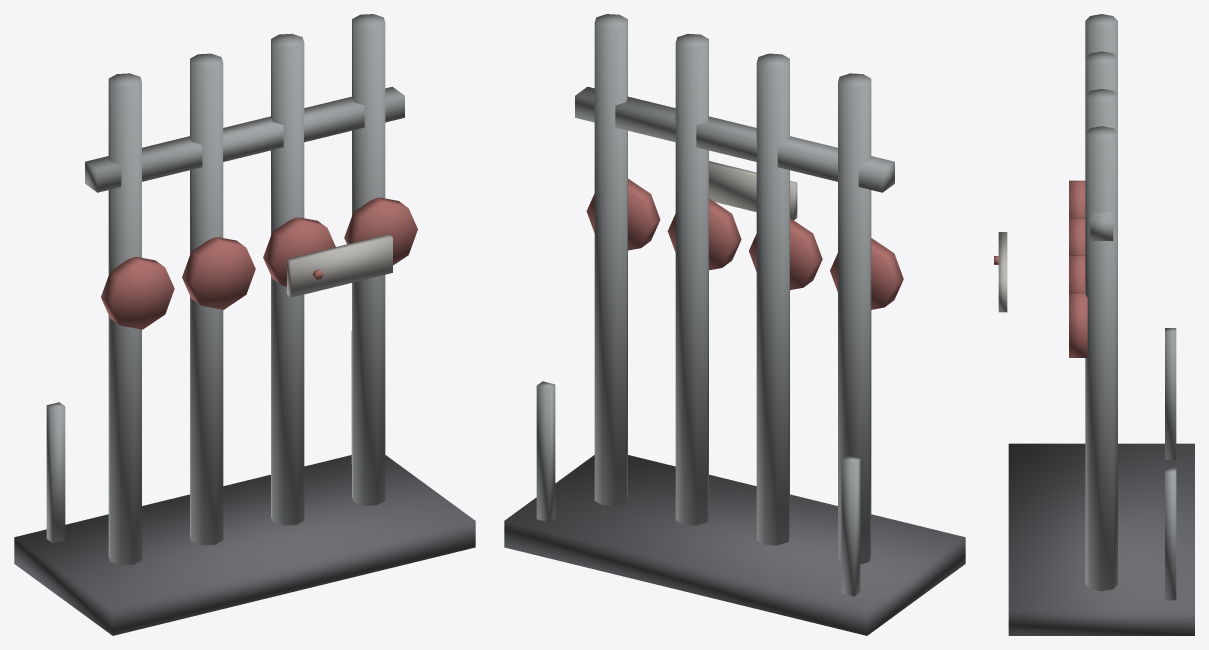
The model's file is radiator_manifold__reinforced.glb.
The picture shows the model from 3 angles, left to right: view 1: azimuth 30°, elevation 25°; view 2: azimuth 150°, elevation 25°; view 3: azimuth 270°, elevation 25°; orthographic projection. The views are drawn at different scales.
Visible parts, largest first — view 1: world; view 2: world; view 3: world.
Boxes of the visible parts, x1,y1,x2,y2 form: world: [14, 14, 475, 635]; world: [504, 14, 965, 635]; world: [994, 14, 1194, 635].
Bounding box in the file's own units: 0.8755 × 1.16 × 0.4439.
